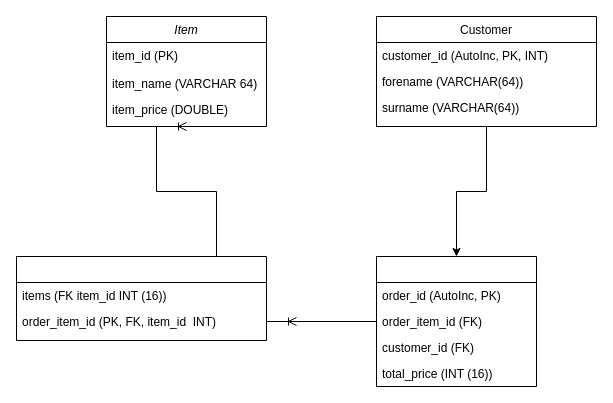
This 613x403 diagram has some shape labels left out. Each missing label, with the box of its shape:
Order Items: (16, 256, 266, 340)
Orders: (376, 256, 536, 386)
